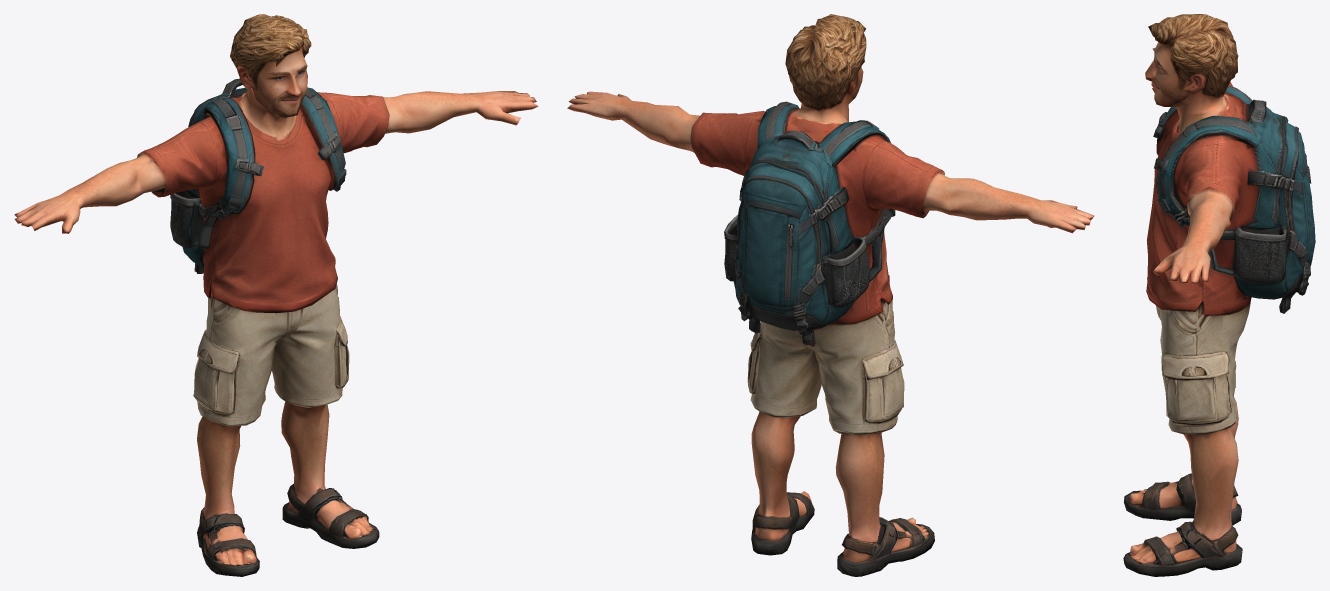
Rendered from lokamcorecharacter.glb.
3 views of the same model, side by side, from view 1: azimuth 30°, elevation 25°; view 2: azimuth 150°, elevation 25°; view 3: azimuth 270°, elevation 25° (orthographic).
Parts seen in each view (by area): view 1: tripo_node_74a7c017-4c35-45ec-a91d-bd29a57a6333; view 2: tripo_node_74a7c017-4c35-45ec-a91d-bd29a57a6333; view 3: tripo_node_74a7c017-4c35-45ec-a91d-bd29a57a6333.
Boxes of the visible parts, x1,y1,x2,y2 form: tripo_node_74a7c017-4c35-45ec-a91d-bd29a57a6333: (14, 14, 538, 576); tripo_node_74a7c017-4c35-45ec-a91d-bd29a57a6333: (567, 14, 1094, 576); tripo_node_74a7c017-4c35-45ec-a91d-bd29a57a6333: (1123, 14, 1315, 576).
Bounding box in the file's own units: 0.9794 × 0.9531 × 0.3167.
Materials: 1 (1 with a texture image).
